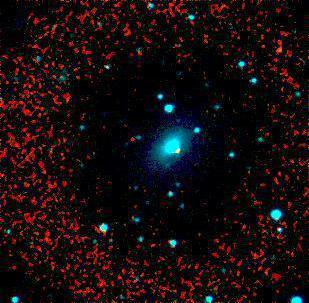star: (156, 136, 186, 166)
